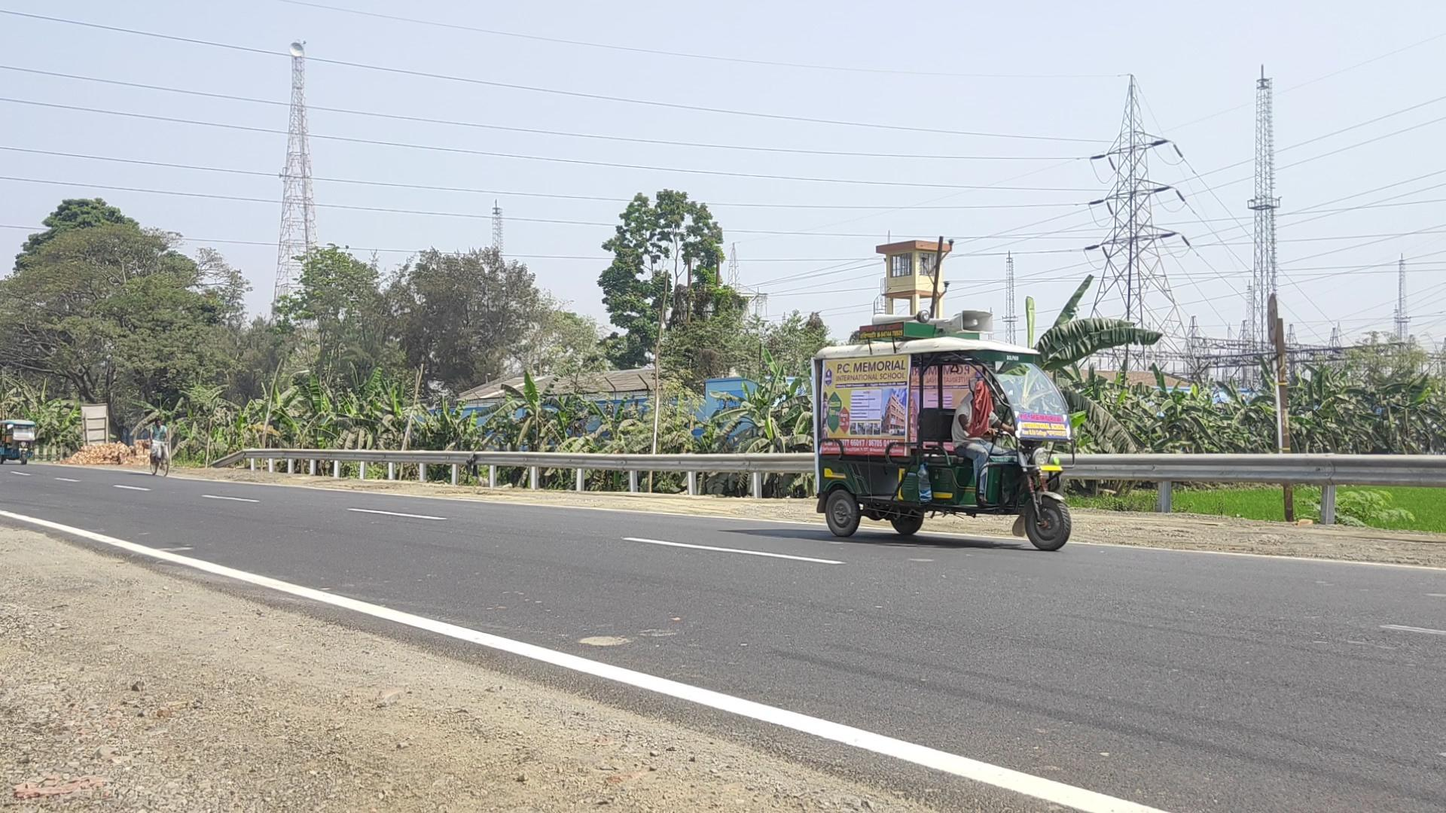Auto: (810, 309, 1072, 553), (1, 419, 36, 466)
bike: (149, 419, 172, 477)
